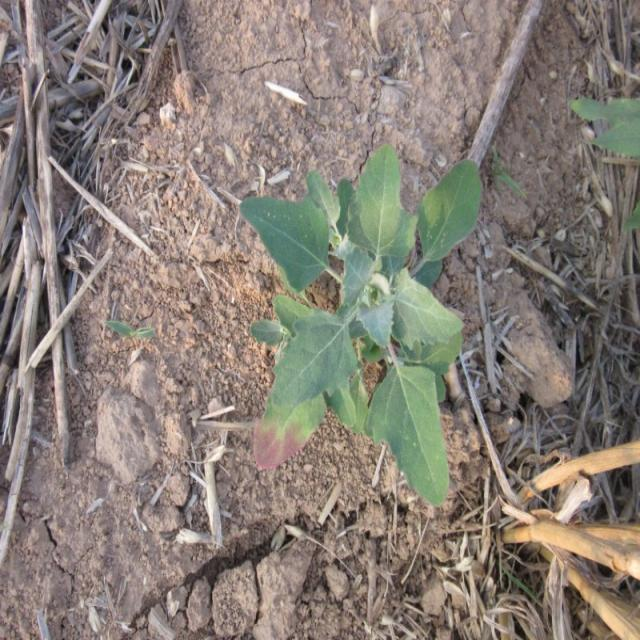ca: (237, 149, 480, 506)
